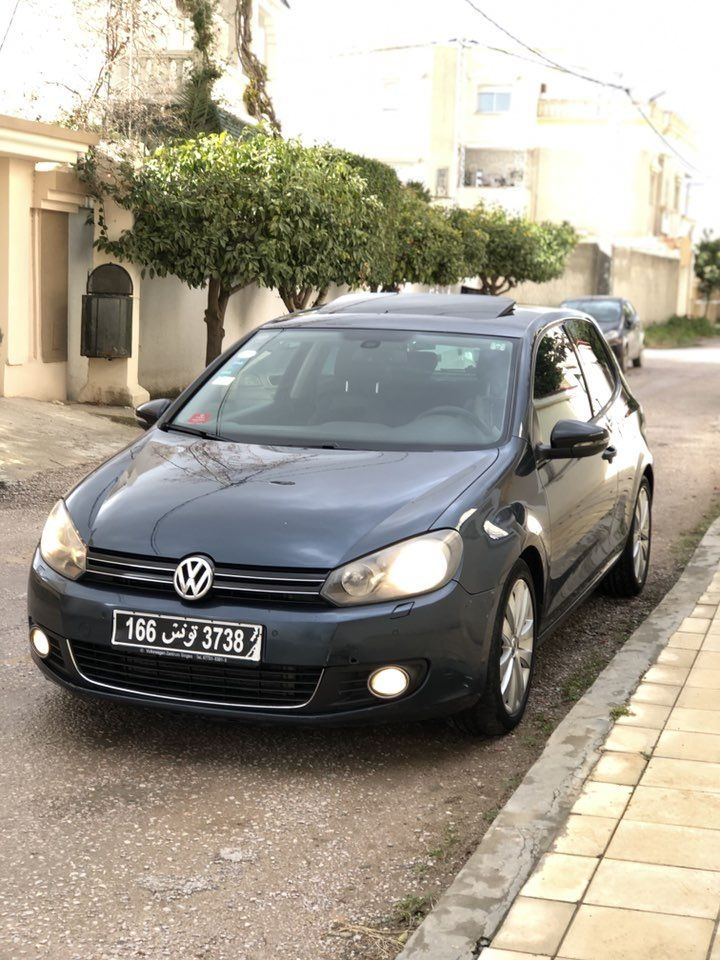LP: (109, 607, 264, 663)
